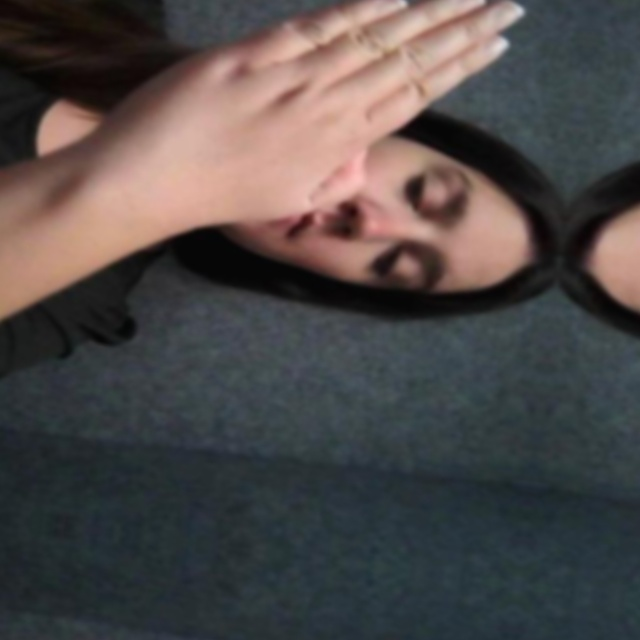Paper: (617, 0, 640, 348)
